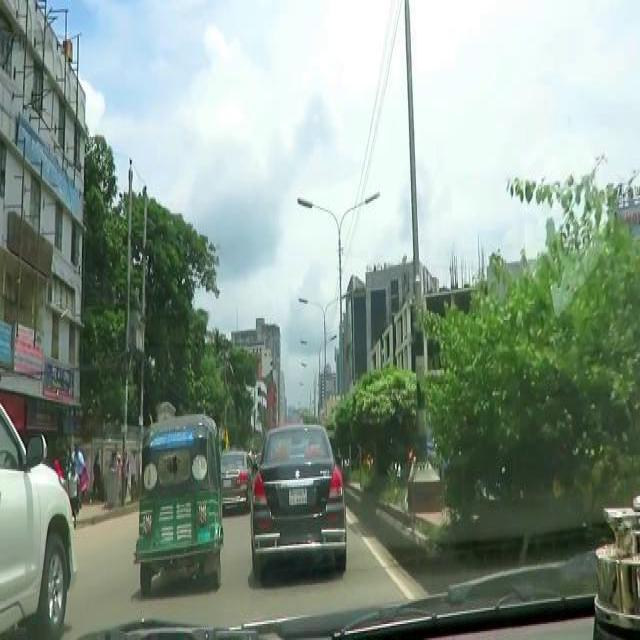car: (248, 419, 348, 586), (219, 447, 257, 513)
three wheelers -CNG-: (132, 414, 224, 604)
